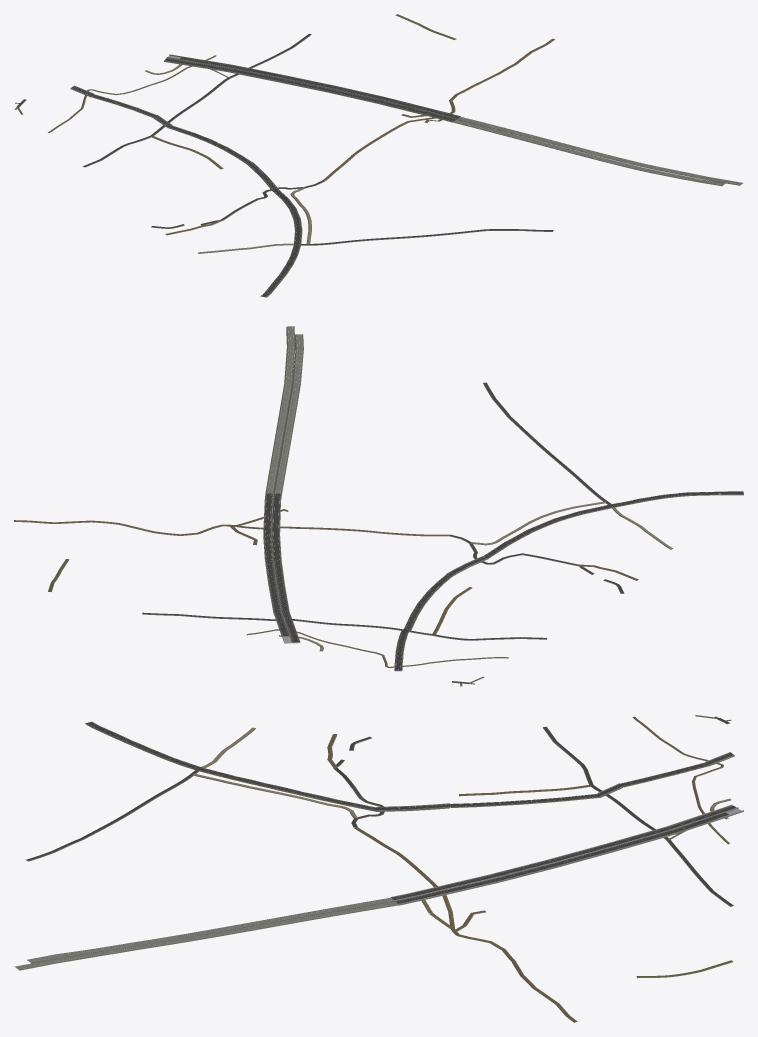
The picture shows the model from 3 angles, top to bottom: view 1: azimuth 30°, elevation 25°; view 2: azimuth 150°, elevation 25°; view 3: azimuth 270°, elevation 25°; orthographic projection. The views are drawn at different scales.
Parts seen in each view (by area): view 1: roads, bruecken; view 2: roads, bruecken; view 3: roads, bruecken.
Boxes of the visible parts, left/top/right/bottom form: roads: left=14, top=14, right=743, bottom=297; bruecken: left=71, top=54, right=460, bottom=190; roads: left=14, top=326, right=743, bottom=686; bruecken: left=263, top=493, right=487, bottom=671; roads: left=14, top=715, right=736, bottom=1022; bruecken: left=375, top=752, right=743, bottom=905.
Size of the model in its own units: 803 by 56.89 by 830.
